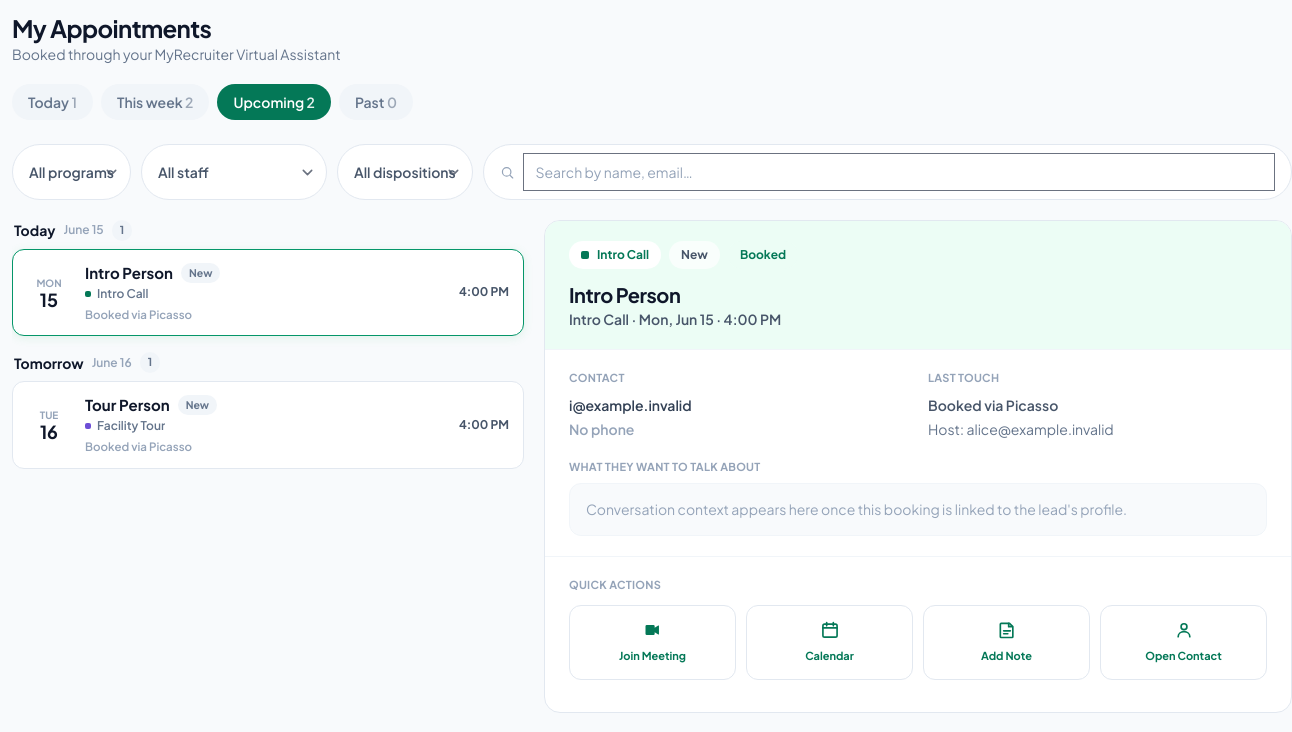
it: MyAppointments (employee scheduling view) › the program filter narrows the list to one appointment type
Select "Facility Tour" in the 1st dropdown named "filter by program": [72, 172] box [12,144,131,200]
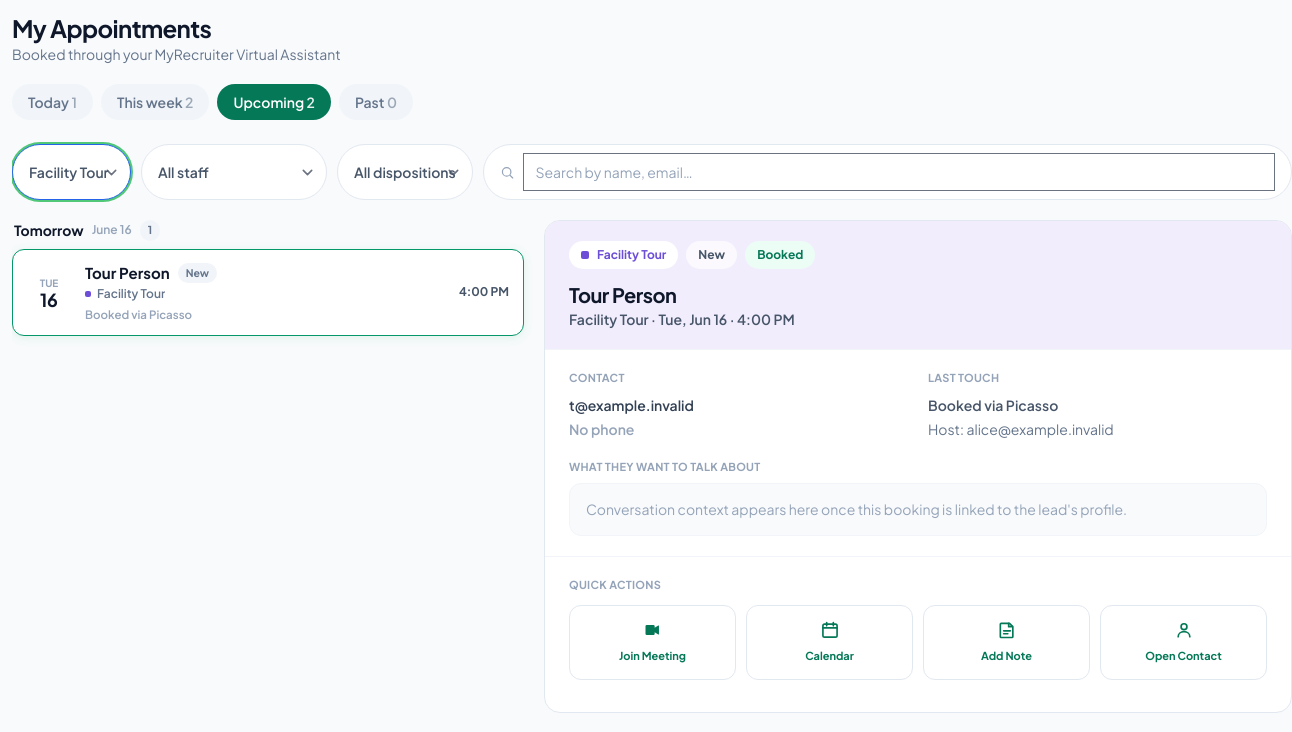
Expected: the 1st text "Tour Person" is shown, [85,262,170,284]
Expected: the button "Intro Person" is gone
